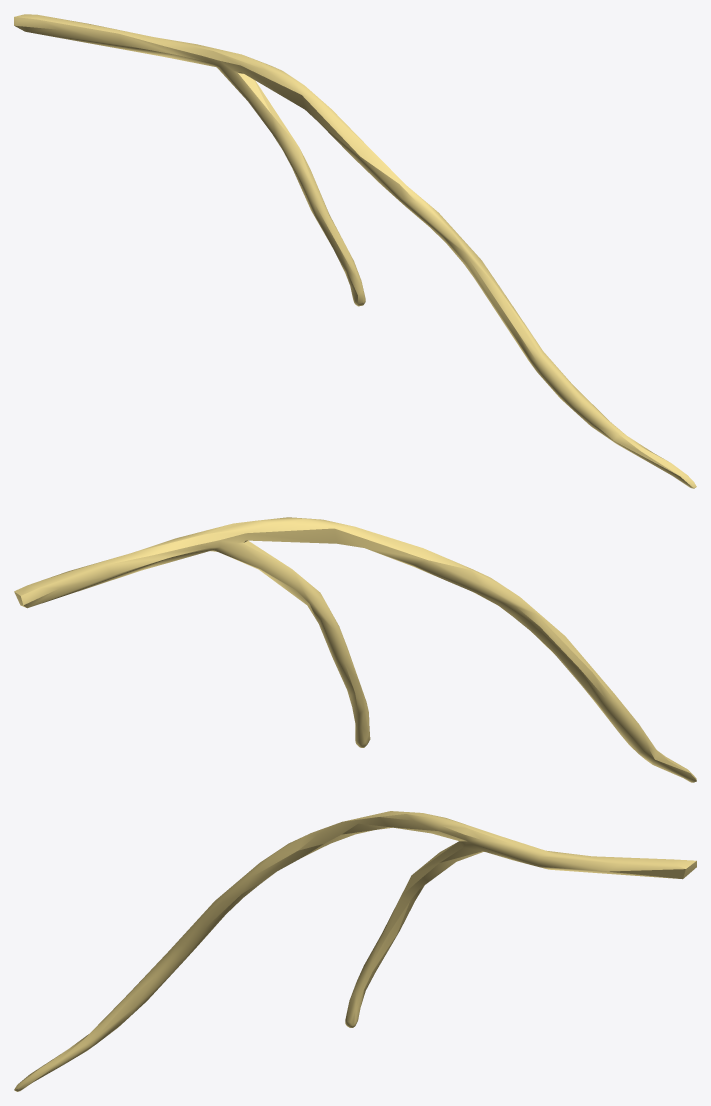
File: fma52699_fj3911.glb
3 renders of one model, top to bottom at view 1: azimuth 90°, elevation 25°; view 2: azimuth 150°, elevation 25°; view 3: azimuth 270°, elevation 25°, orthographic. The views are drawn at different scales.
Parts seen in each view (by area): view 1: FMA52699_FJ3911; view 2: FMA52699_FJ3911; view 3: FMA52699_FJ3911.
Part boxes in pixels (x1=…): FMA52699_FJ3911: x1=14, y1=14, x2=696, y2=488; FMA52699_FJ3911: x1=14, y1=517, x2=696, y2=782; FMA52699_FJ3911: x1=14, y1=811, x2=696, y2=1091.
Bounding box in the file's own units: 0.0118 × 0.0147 × 0.0259.
